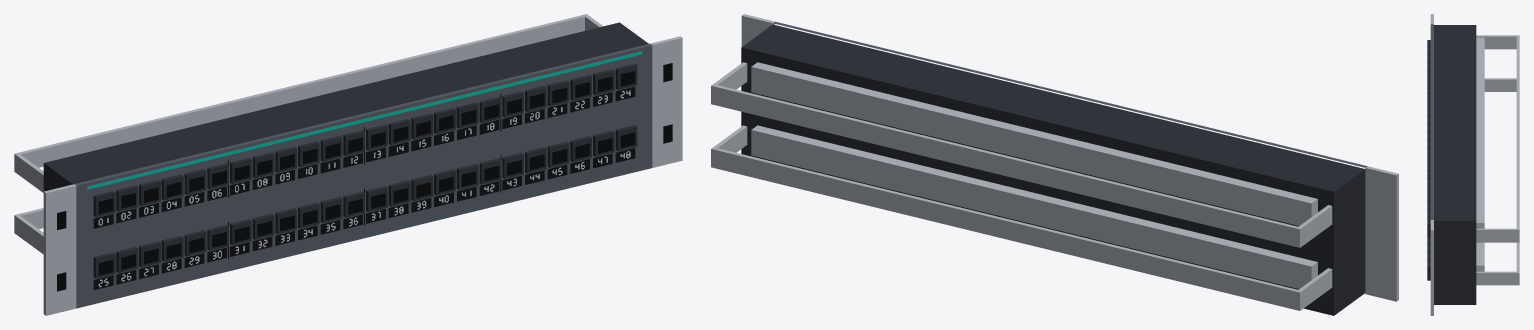
File: PatchPanel_48.glb
3 renders of one model, left to right at view 1: azimuth 30°, elevation 25°; view 2: azimuth 150°, elevation 25°; view 3: azimuth 270°, elevation 25°, orthographic. The views are drawn at different scales.
Parts seen in each view (by area): view 1: PatchPanel_48_Front, PatchPanel_48_Body, PatchPanel_48_Rear; view 2: PatchPanel_48_Rear, PatchPanel_48_Body, PatchPanel_48_Front; view 3: PatchPanel_48_Body, PatchPanel_48_Rear, PatchPanel_48_Front.
Part boxes in pixels (x1=…): PatchPanel_48_Front: x1=43, y1=36, x2=682, y2=315; PatchPanel_48_Body: x1=43, y1=22, x2=648, y2=191; PatchPanel_48_Rear: x1=14, y1=14, x2=602, y2=254; PatchPanel_48_Rear: x1=711, y1=62, x2=1332, y2=310; PatchPanel_48_Body: x1=741, y1=24, x2=1365, y2=315; PatchPanel_48_Front: x1=741, y1=14, x2=1398, y2=301; PatchPanel_48_Body: x1=1434, y1=25, x2=1476, y2=304; PatchPanel_48_Rear: x1=1476, y1=35, x2=1519, y2=285; PatchPanel_48_Front: x1=1427, y1=14, x2=1433, y2=315.
Size of the model in its own units: 0.4826 by 0.0889 by 0.0873.
Materials: 6 (1 with a texture image).
